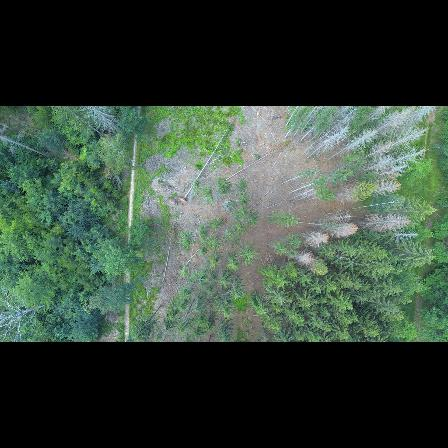Dead: (0, 301, 48, 339), (79, 107, 122, 140), (332, 128, 378, 158), (311, 128, 350, 155), (385, 126, 430, 149), (374, 109, 412, 135), (320, 111, 355, 139), (395, 107, 434, 130), (365, 214, 413, 229), (360, 141, 396, 161), (327, 221, 360, 242), (370, 179, 402, 197), (386, 149, 427, 162), (359, 156, 392, 172), (390, 228, 422, 244), (372, 165, 411, 178), (302, 230, 330, 248), (293, 252, 316, 267)
